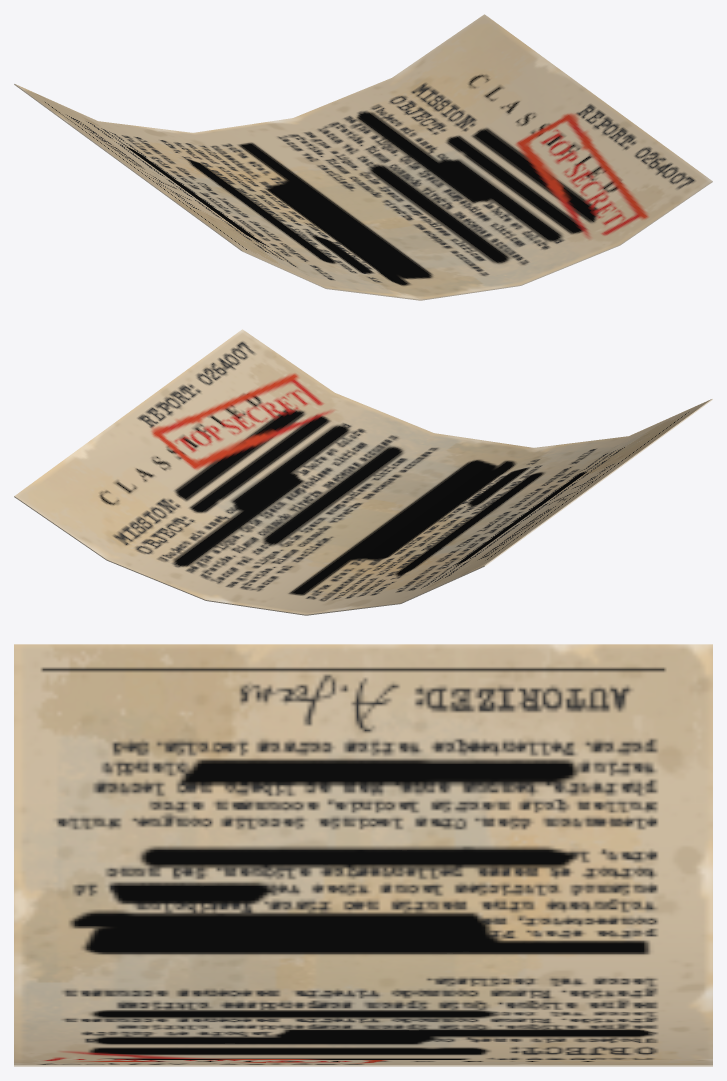
File: paper01_C.fbx
The picture shows the model from 3 angles, top to bottom: view 1: azimuth 30°, elevation 25°; view 2: azimuth 150°, elevation 25°; view 3: azimuth 270°, elevation 25°; orthographic projection. The views are drawn at different scales.
Parts seen in each view (by area): view 1: paper01_C; view 2: paper01_C; view 3: paper01_C.
Part boxes in pixels (x1,y1,x2,y2): paper01_C: (14, 14, 712, 300); paper01_C: (14, 329, 712, 615); paper01_C: (14, 644, 712, 1066).
Size of the model in its own units: 26.11 by 5.47 by 21.9.
